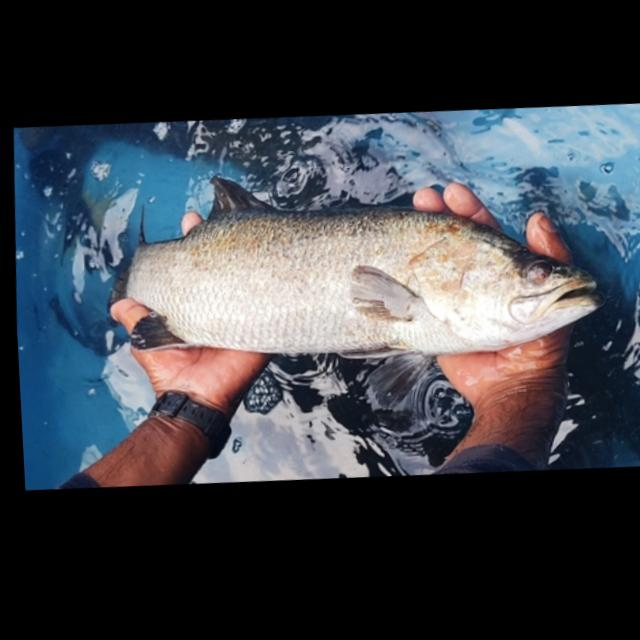Seabass: (96, 143, 602, 388)
